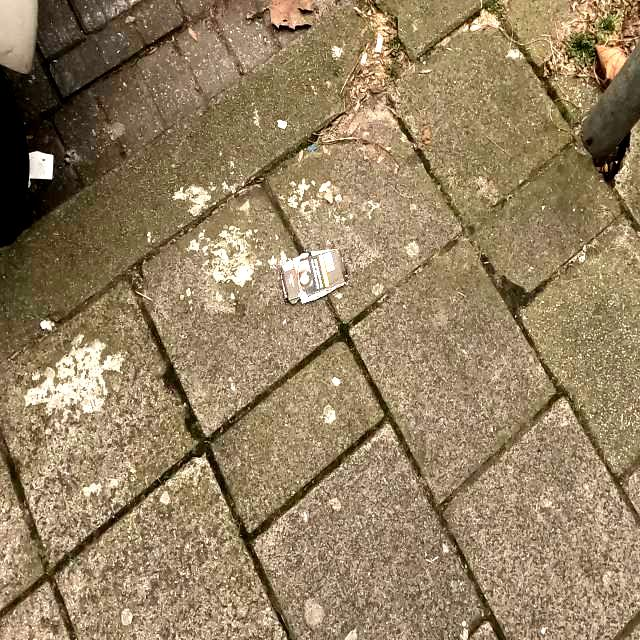Paper: (279, 248, 349, 306)
